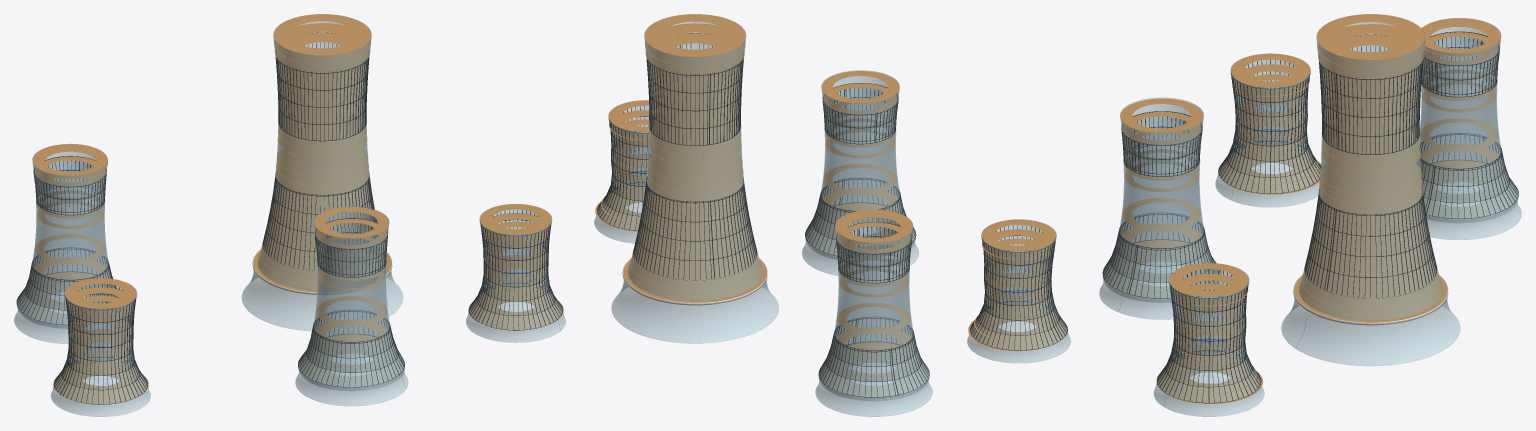
Rendered from london-2.glb.
The picture shows the model from 3 angles, left to right: view 1: azimuth 30°, elevation 25°; view 2: azimuth 150°, elevation 25°; view 3: azimuth 270°, elevation 25°; orthographic projection. The views are drawn at different scales.
Parts seen in each view (by area): view 1: project:Default Floor, project:Glass, project:Glass walls, project:Aluminum; view 2: project:Default Floor, project:Glass, project:Glass walls, project:Aluminum, project:Walls-con; view 3: project:Default Floor, project:Glass, project:Glass walls, project:Aluminum, project:Walls-con.
Boxes of the visible parts, x1=… form: project:Default Floor: x1=18, y1=14, x2=563, y2=404; project:Glass: x1=17, y1=42, x2=562, y2=404; project:Glass walls: x1=14, y1=14, x2=565, y2=416; project:Aluminum: x1=16, y1=32, x2=562, y2=404; project:Default Floor: x1=595, y1=14, x2=1066, y2=396; project:Glass: x1=597, y1=43, x2=1067, y2=397; project:Glass walls: x1=594, y1=14, x2=1070, y2=416; project:Aluminum: x1=597, y1=33, x2=1067, y2=397; project:Walls-con: x1=622, y1=258, x2=767, y2=305; project:Default Floor: x1=1104, y1=14, x2=1516, y2=403; project:Glass: x1=1103, y1=32, x2=1518, y2=402; project:Glass walls: x1=1099, y1=14, x2=1521, y2=416; project:Aluminum: x1=1102, y1=31, x2=1518, y2=403; project:Walls-con: x1=1293, y1=274, x2=1448, y2=325.
Bounding box in the file's own units: 207 × 109 × 144.
